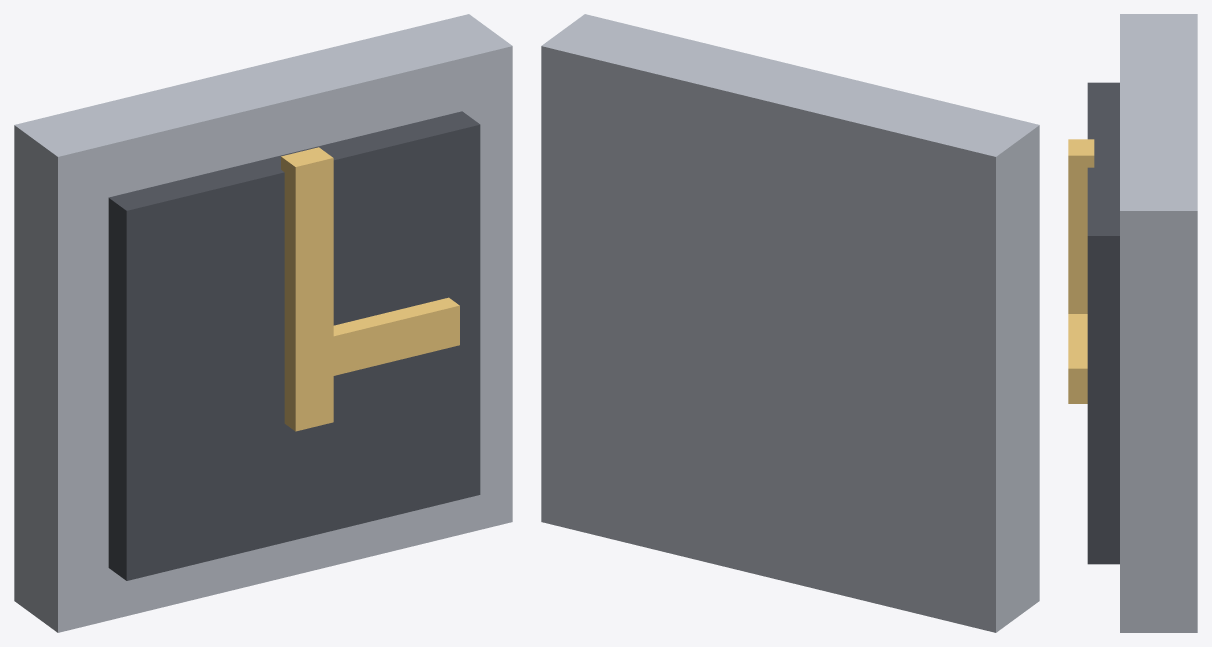
The model's file is raum_uhr.glb.
3 views of the same model, side by side, from view 1: azimuth 30°, elevation 25°; view 2: azimuth 150°, elevation 25°; view 3: azimuth 270°, elevation 25° (orthographic). The views are drawn at different scales.
Parts seen in each view (by area): view 1: blatt, gehaeuse, zeiger_lang, zeiger_kurz; view 2: gehaeuse; view 3: gehaeuse, blatt, zeiger_lang, zeiger_kurz.
Boxes of the visible parts, bbox=[...] form: blatt: bbox=[108, 111, 480, 580]; gehaeuse: bbox=[14, 14, 512, 632]; zeiger_lang: bbox=[281, 147, 333, 431]; zeiger_kurz: bbox=[293, 297, 459, 385]; gehaeuse: bbox=[541, 14, 1039, 632]; gehaeuse: bbox=[1120, 14, 1197, 632]; blatt: bbox=[1087, 82, 1119, 564]; zeiger_lang: bbox=[1068, 139, 1094, 313]; zeiger_kurz: bbox=[1068, 314, 1087, 403].
Size of the model in its own units: 0.36 by 0.36 by 0.1.
